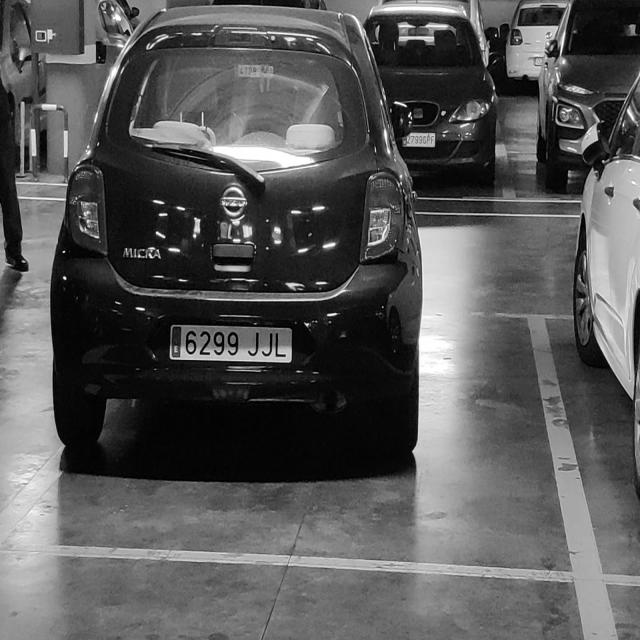License-Plate: (169, 321, 293, 365)
